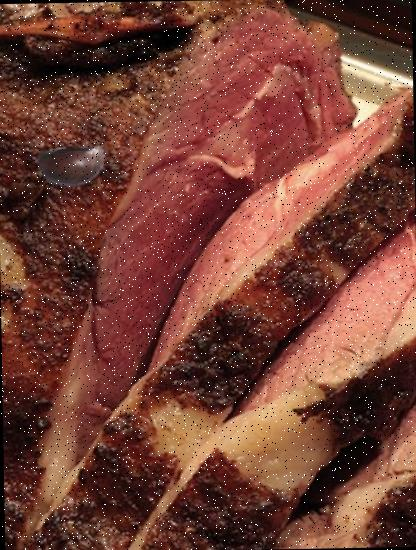Chestnut: (36, 131, 107, 202)
